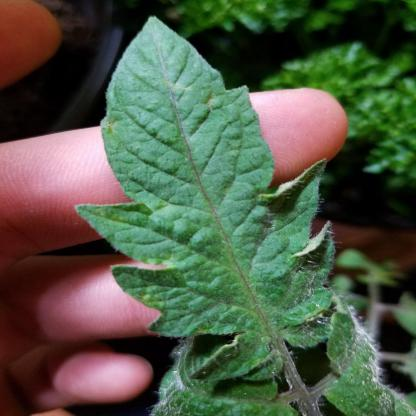Tomato leaf: (97, 13, 338, 337)
